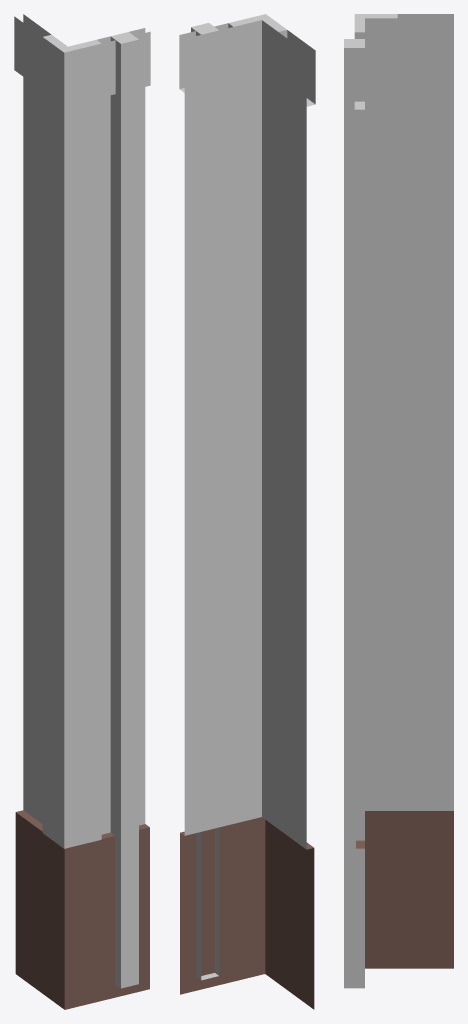
3 renders of one model, left to right at view 1: azimuth 30°, elevation 25°; view 2: azimuth 210°, elevation 25°; view 3: azimuth 270°, elevation 25°, orthographic.
Parts seen in each view (by area): view 1: a2000/600/base-c1; view 2: a2000/600/base-c1; view 3: a2000/600/base-c1.
Part boxes in pixels (<box>): a2000/600/base-c1: <box>14,14,150,1009</box>; a2000/600/base-c1: <box>179,14,315,1009</box>; a2000/600/base-c1: <box>344,14,453,988</box>.
Size of the model in its own units: 0.335 by 3.55 by 0.37.
